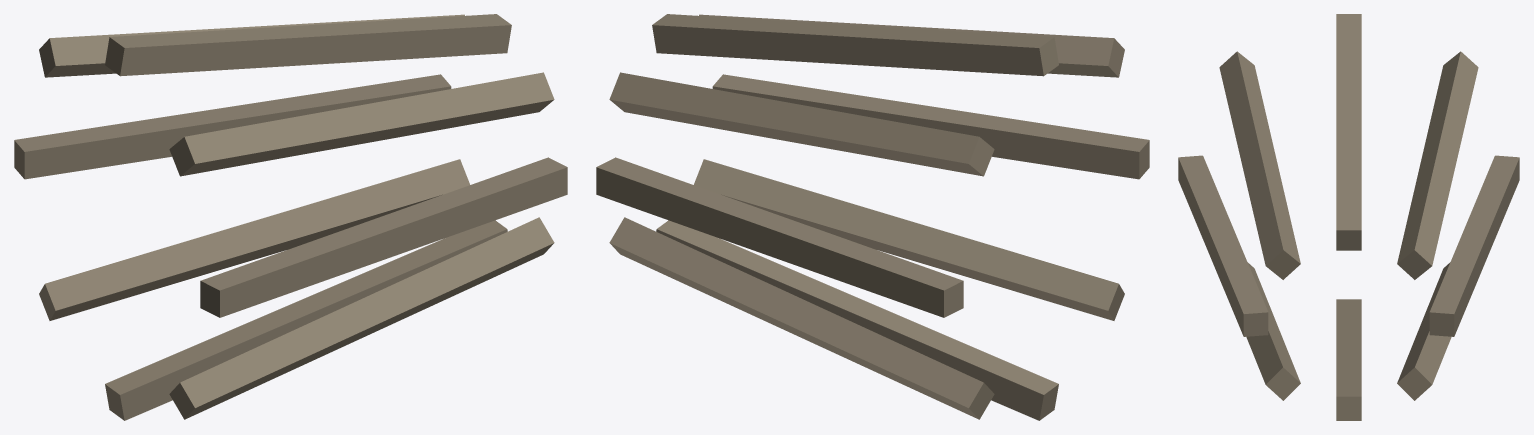
File: ship_basic.glb
3 views of the same model, side by side, from view 1: azimuth 30°, elevation 25°; view 2: azimuth 150°, elevation 25°; view 3: azimuth 270°, elevation 25° (orthographic). The views are drawn at different scales.
Parts seen in each view (by area): view 1: Cube.001; view 2: Cube.001; view 3: Cube.001.
Boxes of the visible parts, x1,y1,x2,y2 form: Cube.001: [14, 14, 567, 420]; Cube.001: [596, 14, 1149, 420]; Cube.001: [1178, 14, 1519, 420].
Size of the model in its own units: 22.42 by 20.38 by 20.38.
